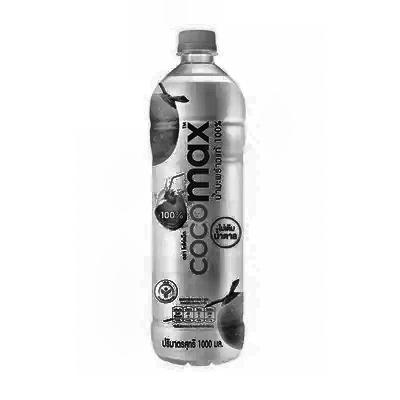waterbottle: (78, 14, 329, 376)
